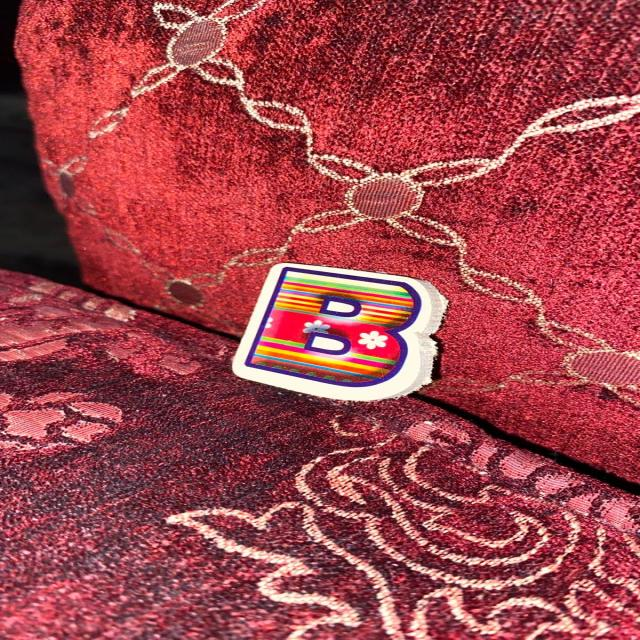B: (233, 263, 446, 401)
